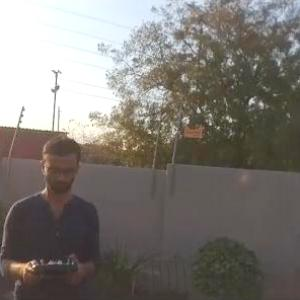follow: (0, 127, 106, 299)
